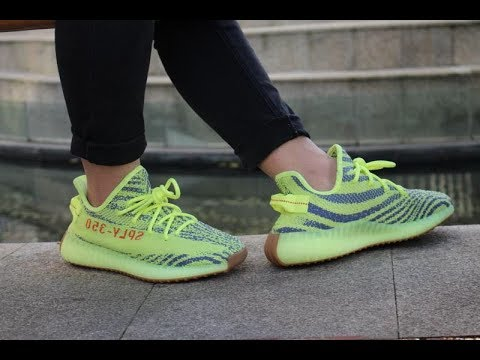Yeezy Semi-Frozen: (256, 147, 462, 274), (51, 162, 250, 283)
